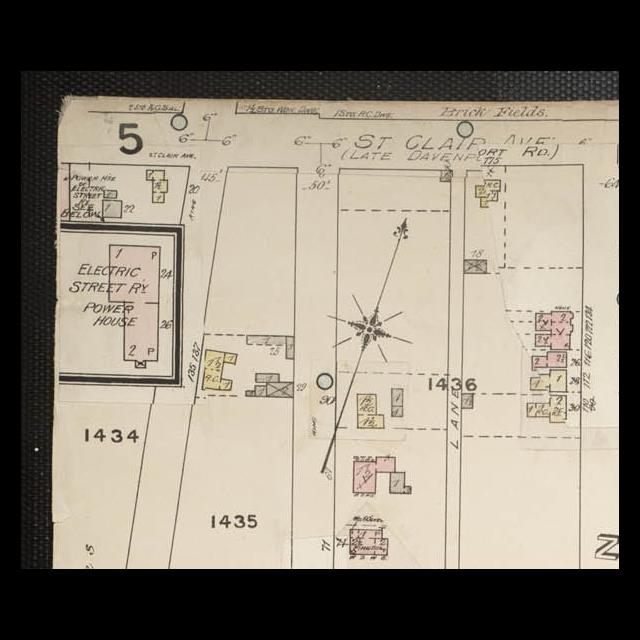building-footprints: (109, 245, 160, 368), (354, 457, 395, 493), (202, 350, 237, 391), (535, 312, 573, 349), (527, 396, 567, 422), (350, 529, 388, 555), (357, 394, 384, 428), (531, 370, 567, 392), (57, 163, 70, 221), (146, 170, 168, 202), (532, 352, 567, 367), (476, 180, 500, 201), (390, 472, 411, 494), (267, 382, 294, 397), (247, 336, 286, 344), (102, 201, 121, 217), (464, 260, 487, 273), (392, 389, 403, 406), (286, 336, 294, 359), (256, 374, 279, 382), (462, 394, 473, 408), (440, 170, 451, 181), (391, 407, 403, 417), (103, 190, 117, 198), (255, 386, 266, 396), (246, 391, 255, 396)
